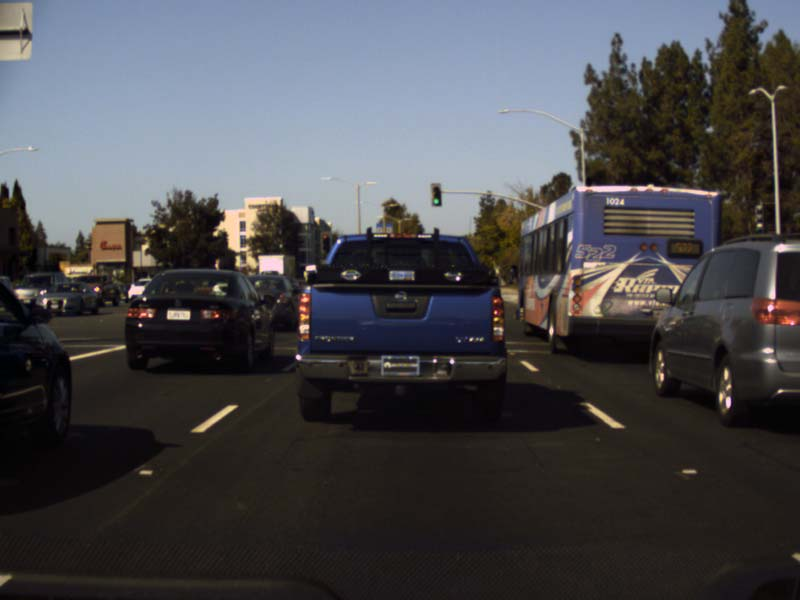Green: (430, 182, 441, 206)
Red: (322, 233, 329, 252)
